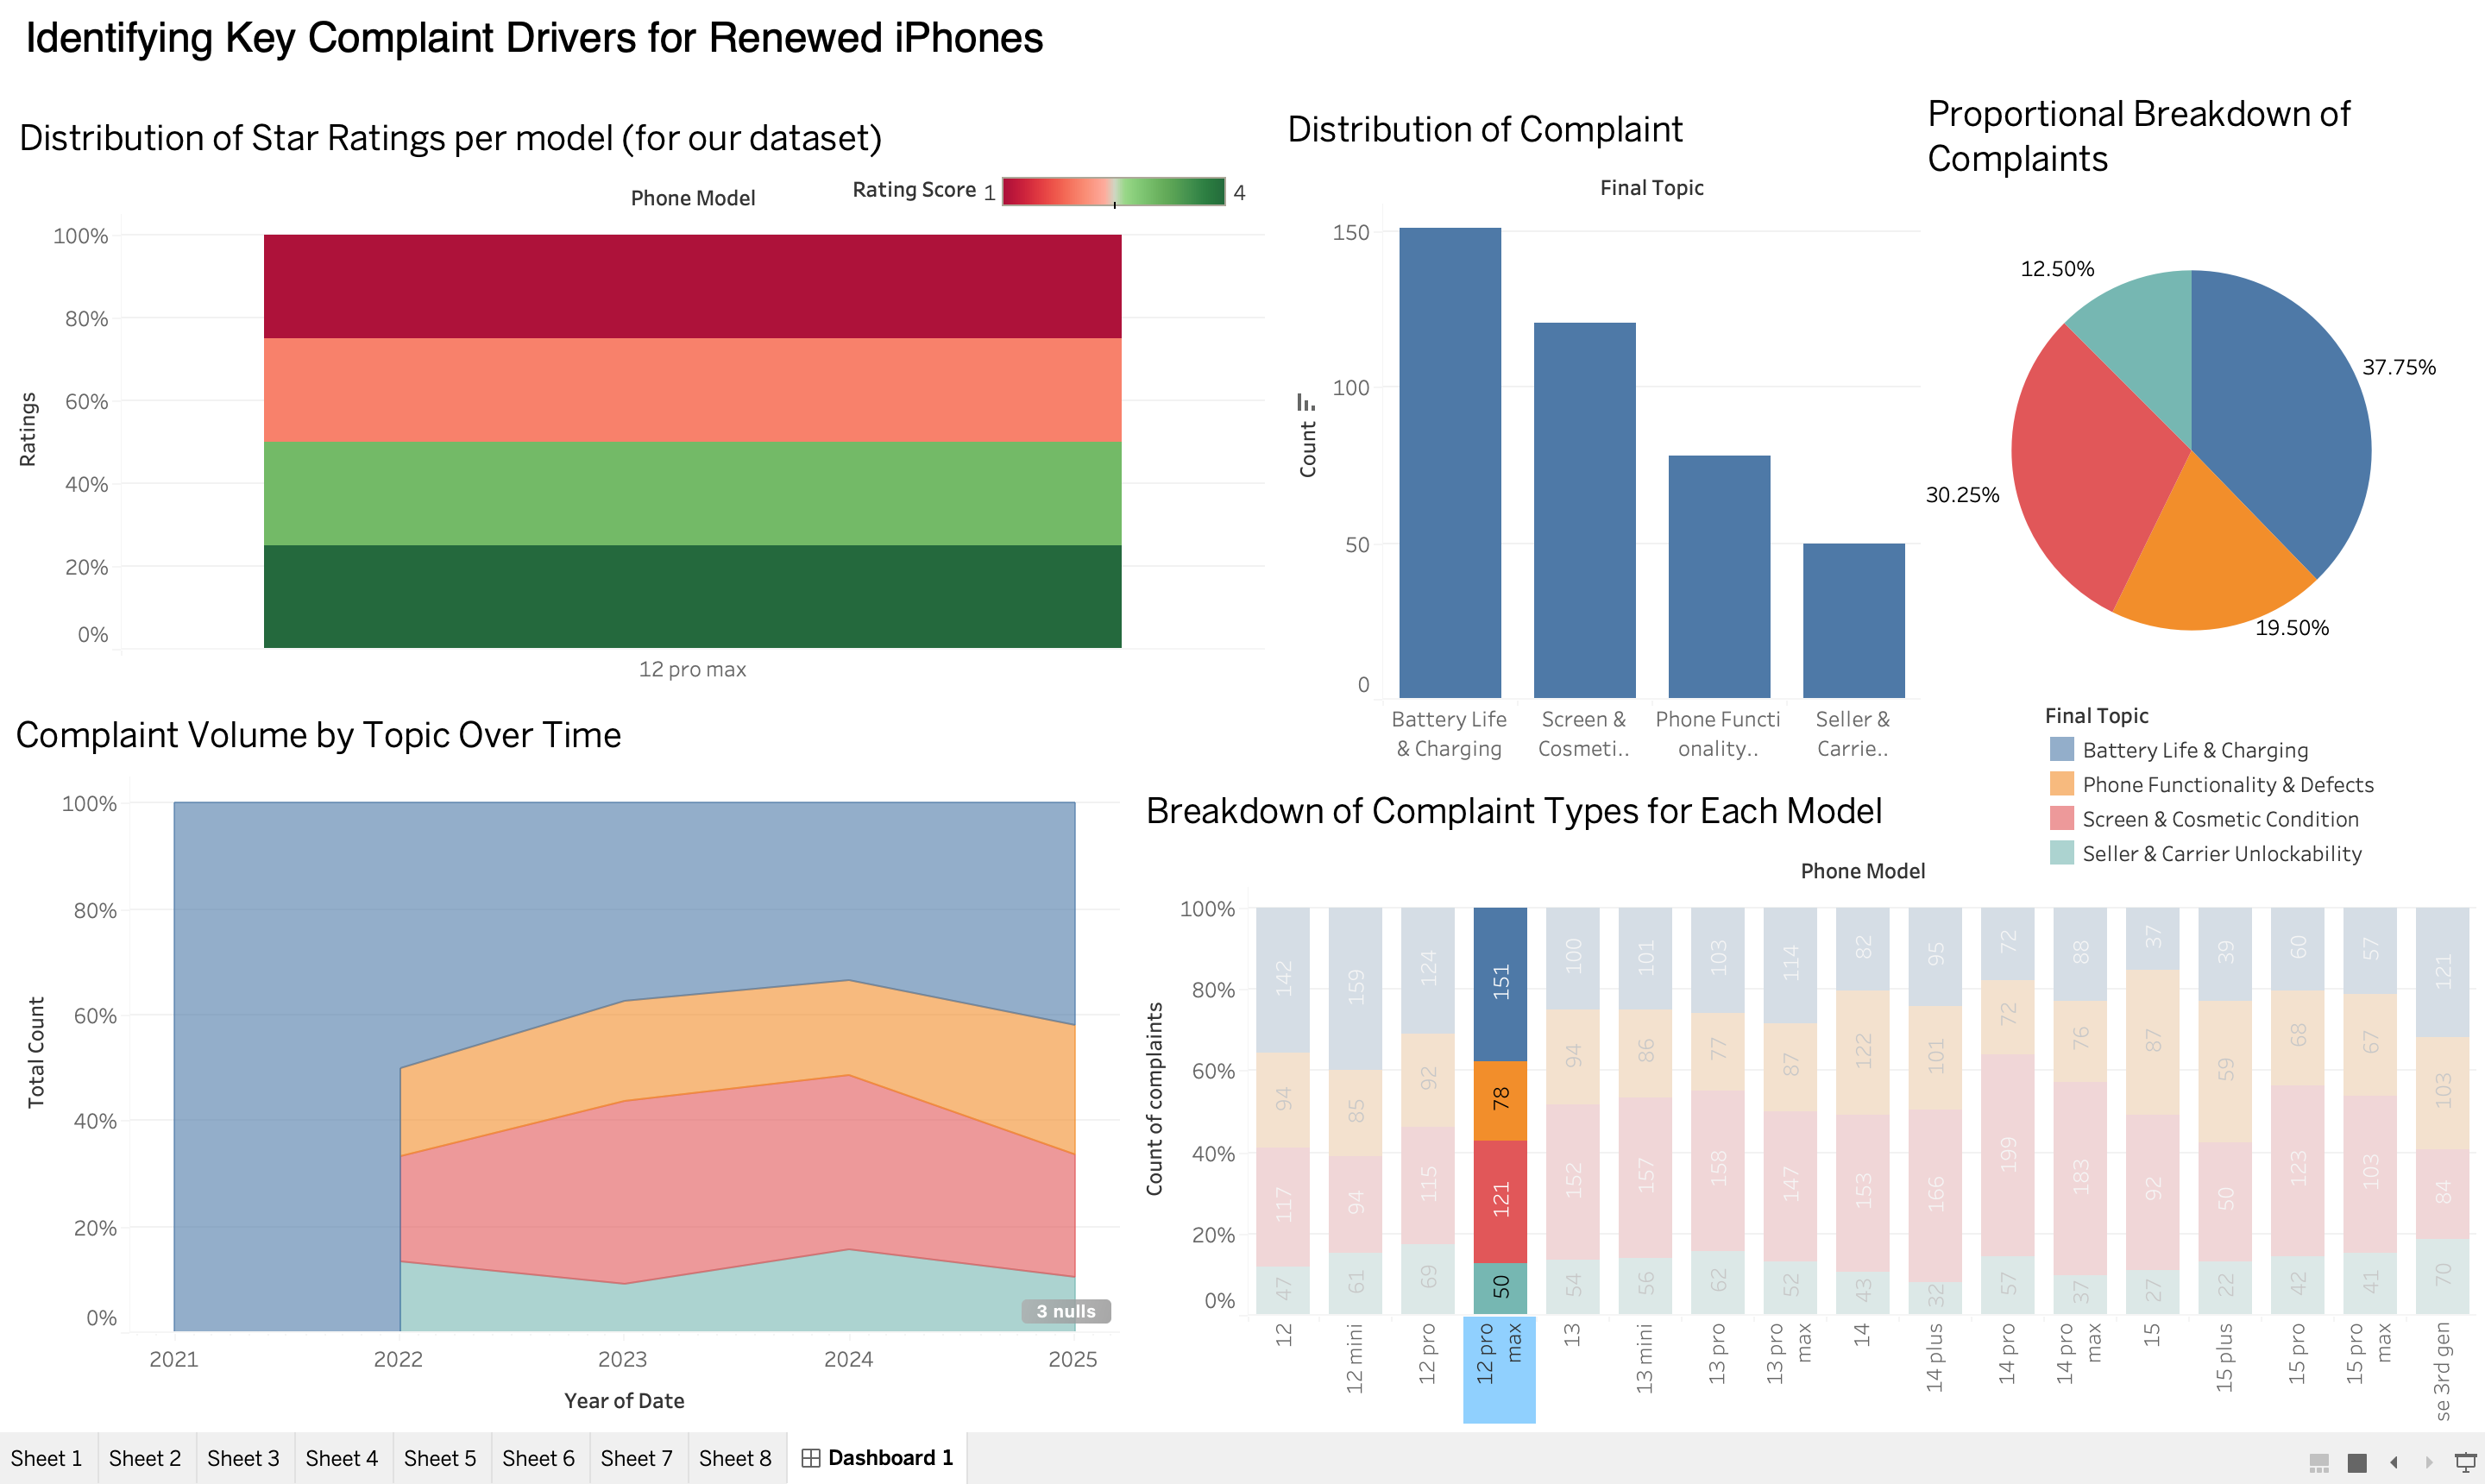

The dashboard page shown, as its layout file describes it:
{"tool":"tableau","page":{"name":"Dashboard 1","canvas":[1000,1000],"units":"permille","ordinal":0},"visuals":[{"type":"title","box":[6.5,10.4,987,41.7]},{"type":"worksheet","title":"Sheet 2","mark":"Pie","box":[773,58.6,218.1,429.7]},{"type":"worksheet","title":"Sheet 1","mark":"Automatic","rows":["dashboard_ready_data.csv_B38BA18D6B454ACE9A420E0065C7907D"],"cols":["final_topic"],"box":[515,70.3,257.9,466.2]},{"type":"worksheet","title":"Sheet 5","mark":"Automatic","cols":["Calculation_100556971031543809"],"box":[4.9,75.5,504.5,425.8]},{"type":"legend","title":"Sheet 5","param":"[federated.1mf78hi1ex3jng1btt0pn013t43u].[none:ratingScore:qk]","box":[343.4,119.8,161.9,36.5]},{"type":"legend","title":"Sheet 4","param":"[federated.1mf78hi1ex3jng1btt0pn013t43u].[none:final_topic:nk]","box":[822.6,489.6,170.1,130.2]},{"type":"worksheet","title":"Sheet 4","mark":"Area","cols":["date"],"box":[3.2,492.2,447.5,503.9]},{"type":"worksheet","title":"Sheet 3","mark":"Automatic","cols":["Calculation_100556971031543809"],"box":[458.1,545.6,538.6,447.9]}]}

Visuals, with their boxes on the dashboard's canvas, which has no fixed pixel size, in thousandths of its width and height (x1, y1, x2, y2). These are canvas units, not pixel positions in the 2485x1484 screenshot, which may show the page scaled, cropped or inside an application window:
title: [left=6, top=10, right=994, bottom=52]
"Sheet 2" worksheet (Pie marks): [left=773, top=59, right=991, bottom=488]
"Sheet 1" worksheet: [left=515, top=70, right=773, bottom=536]
"Sheet 5" worksheet: [left=5, top=76, right=509, bottom=501]
"Sheet 5" legend: [left=343, top=120, right=505, bottom=156]
"Sheet 4" legend: [left=823, top=490, right=993, bottom=620]
"Sheet 4" worksheet (Area marks): [left=3, top=492, right=451, bottom=996]
"Sheet 3" worksheet: [left=458, top=546, right=997, bottom=994]
